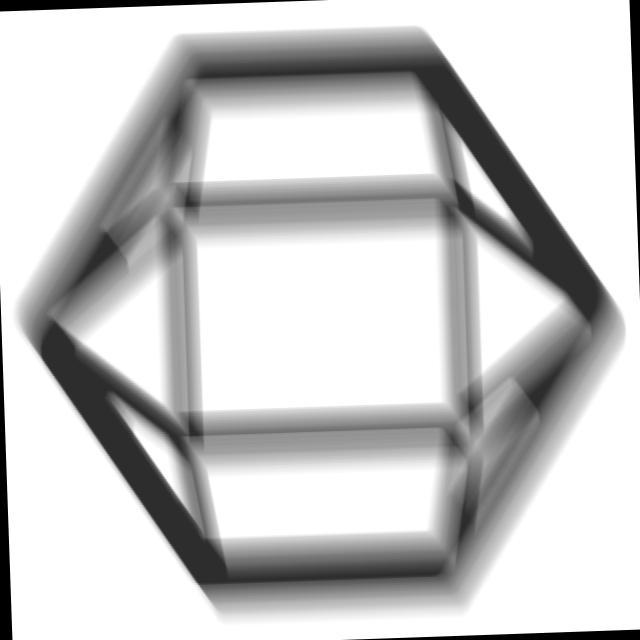crystal: (1, 5, 635, 640)
